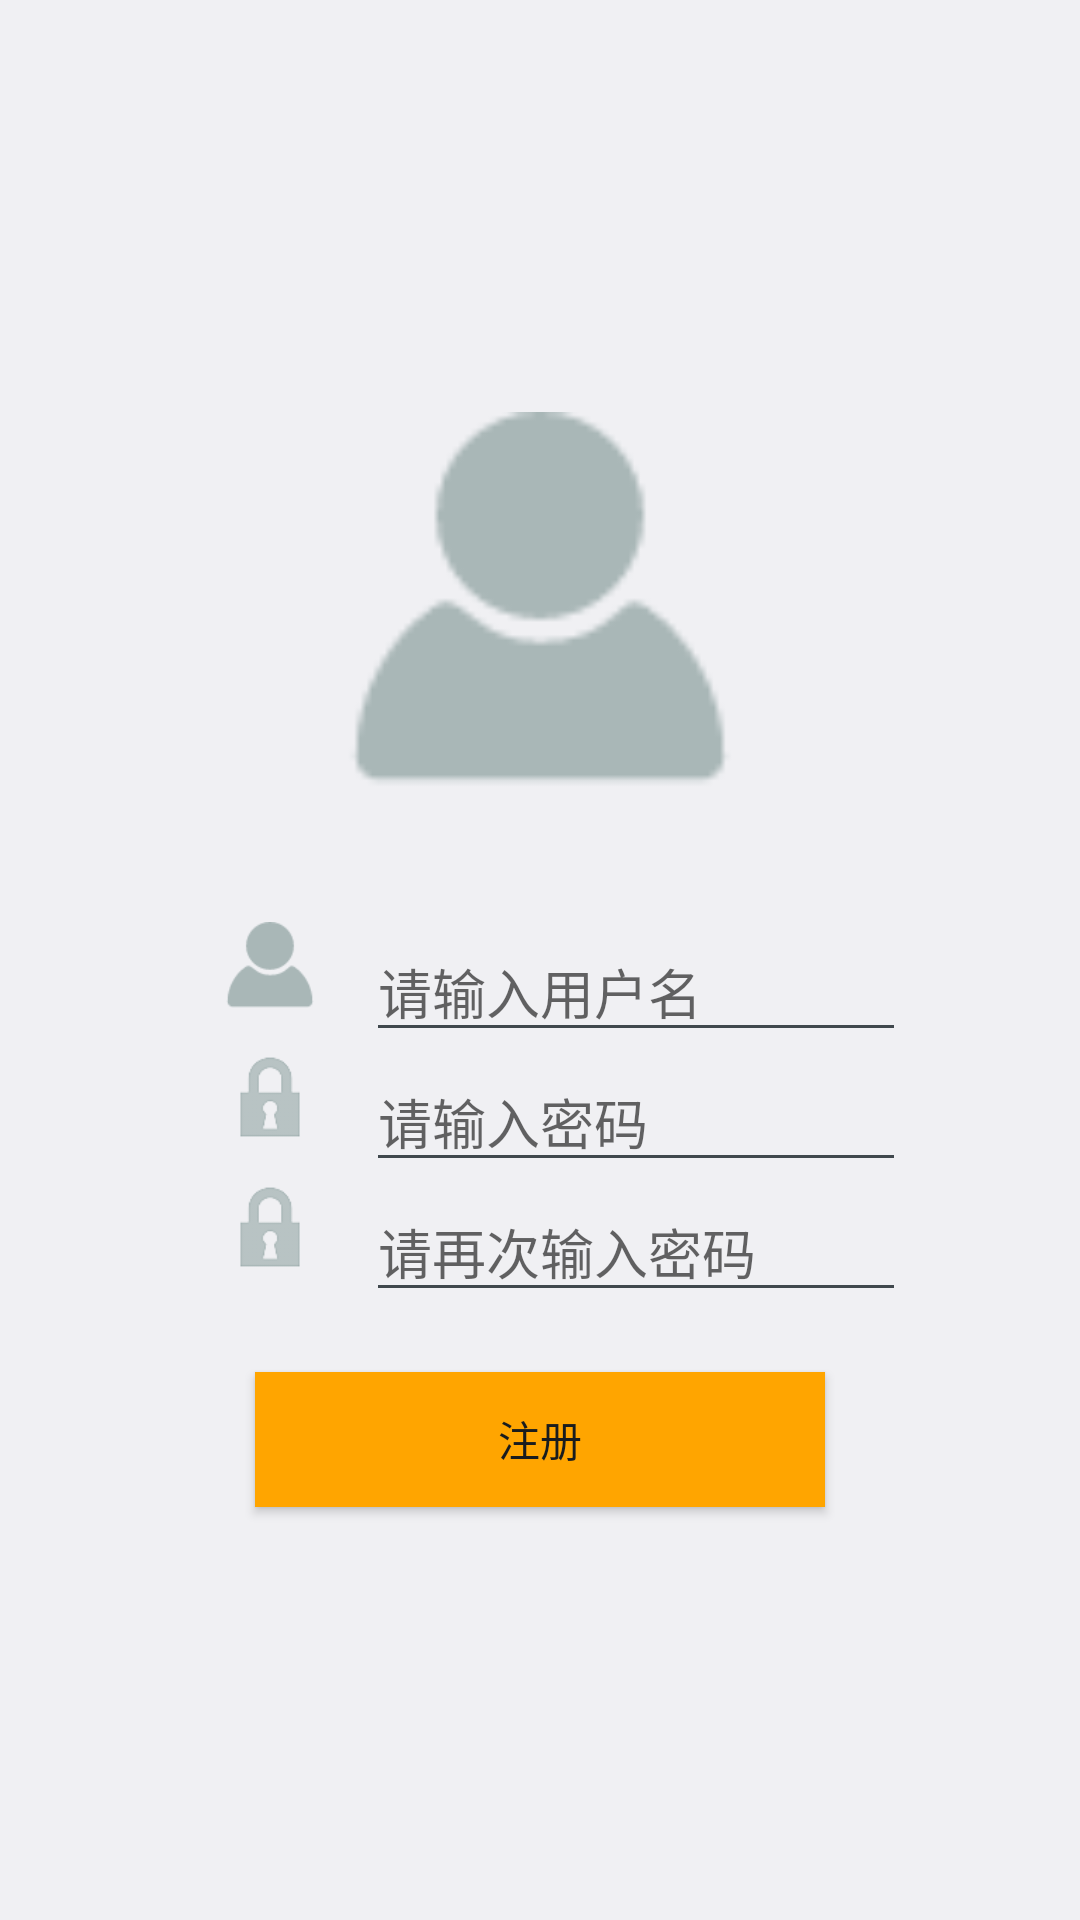

Where to tap for icons on this 1080x1920 app screen, as [x,y]:
passsword: [270,1097], [270,1227]
